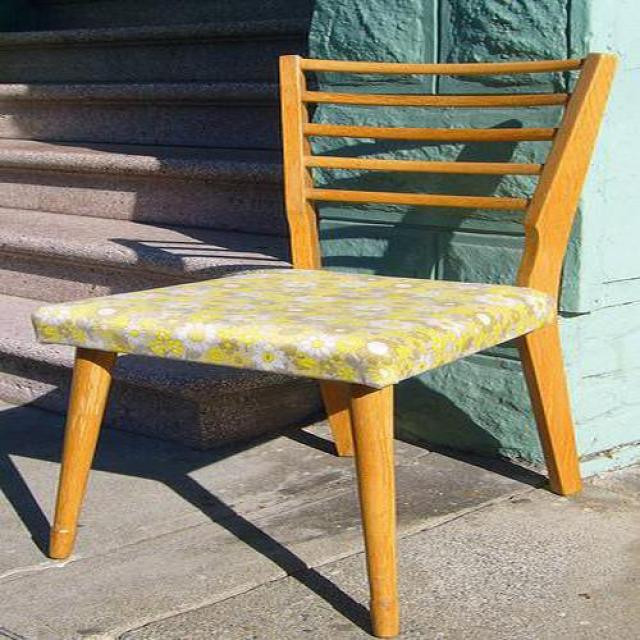chair: (31, 52, 620, 640)
